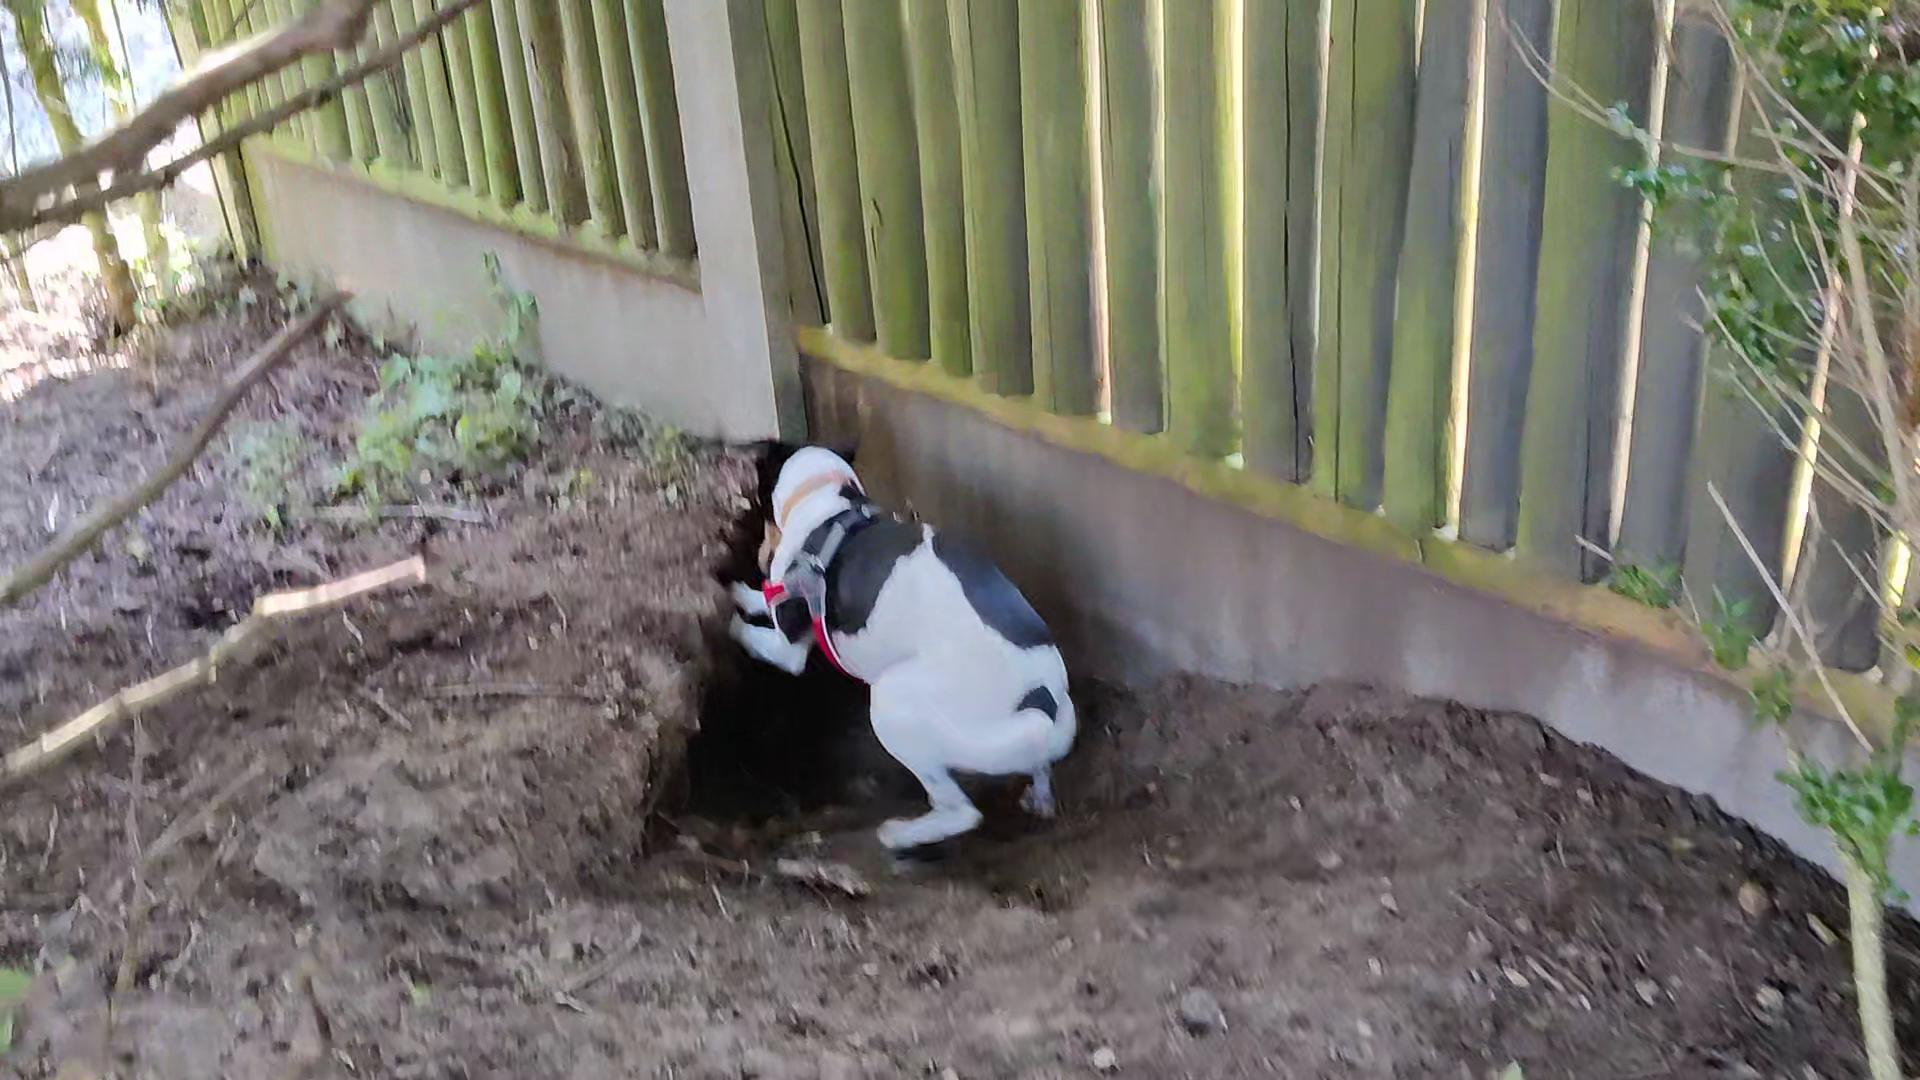Dog: (702, 423, 1091, 856)
